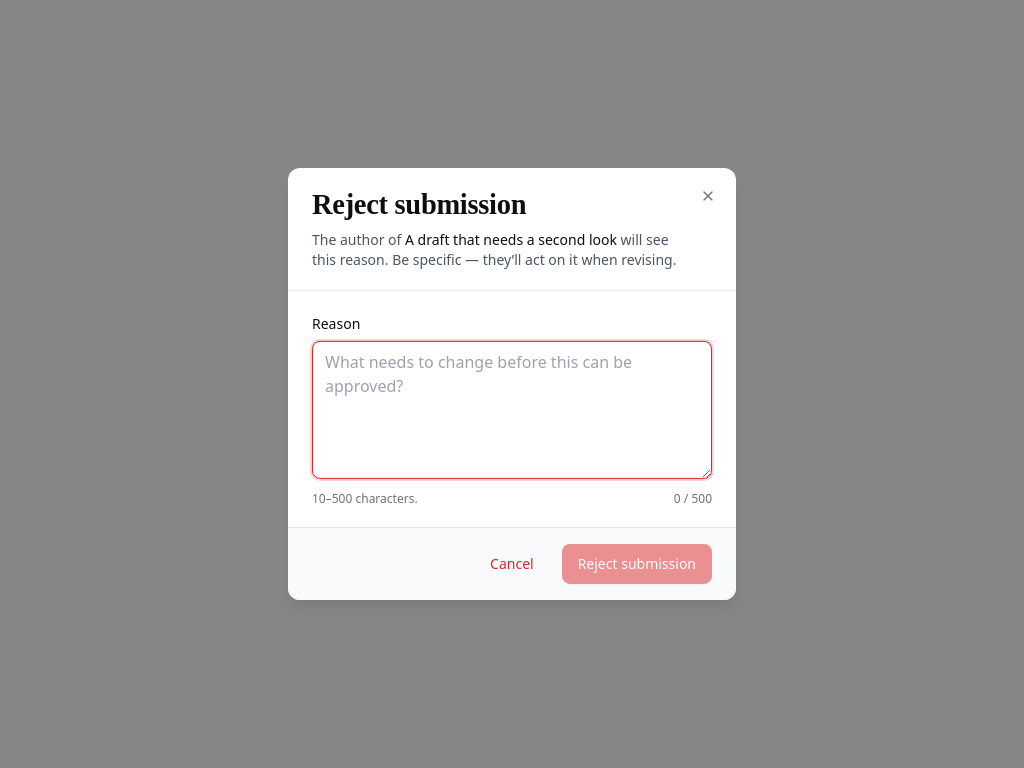
Scenario: <RejectModal> › keeps submit disabled until the reason hits the 10-char floor
The image size is (1024, 768).
Type "too short" into the text box labelled "Reason" at (512, 410), box [312,341,712,479]
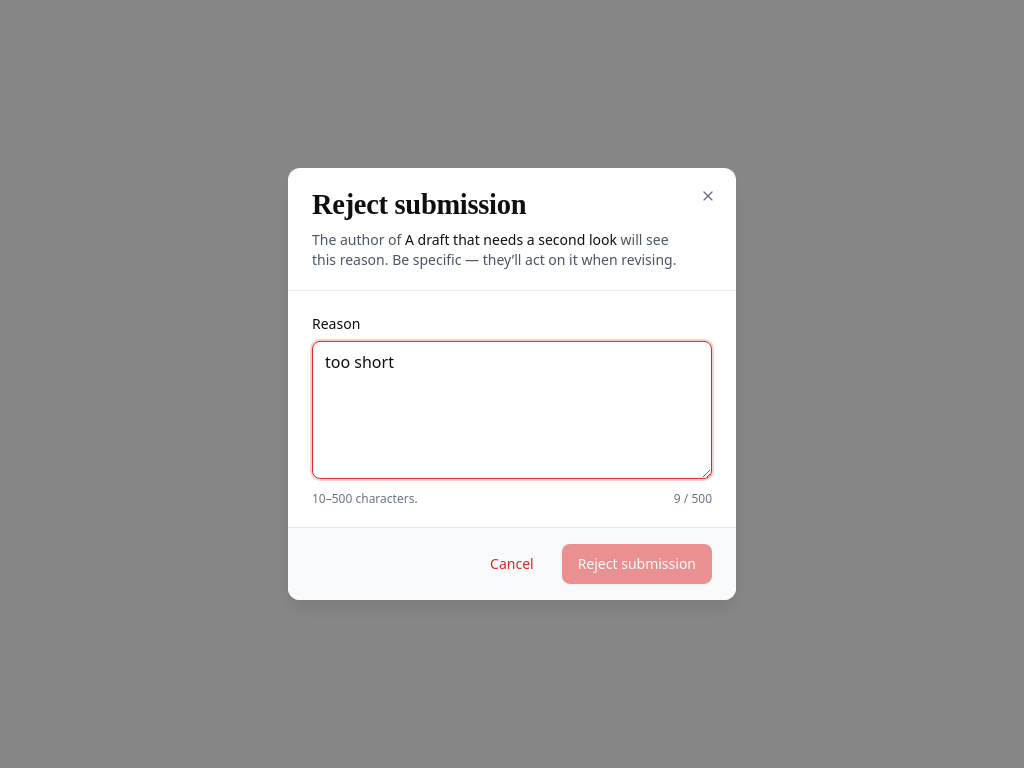
Expected: the button "Reject submission" is disabled, [562,544,712,584]
Type " more words now over ten" into the text box labelled "Reason" at (512, 410), box [312,341,712,479]
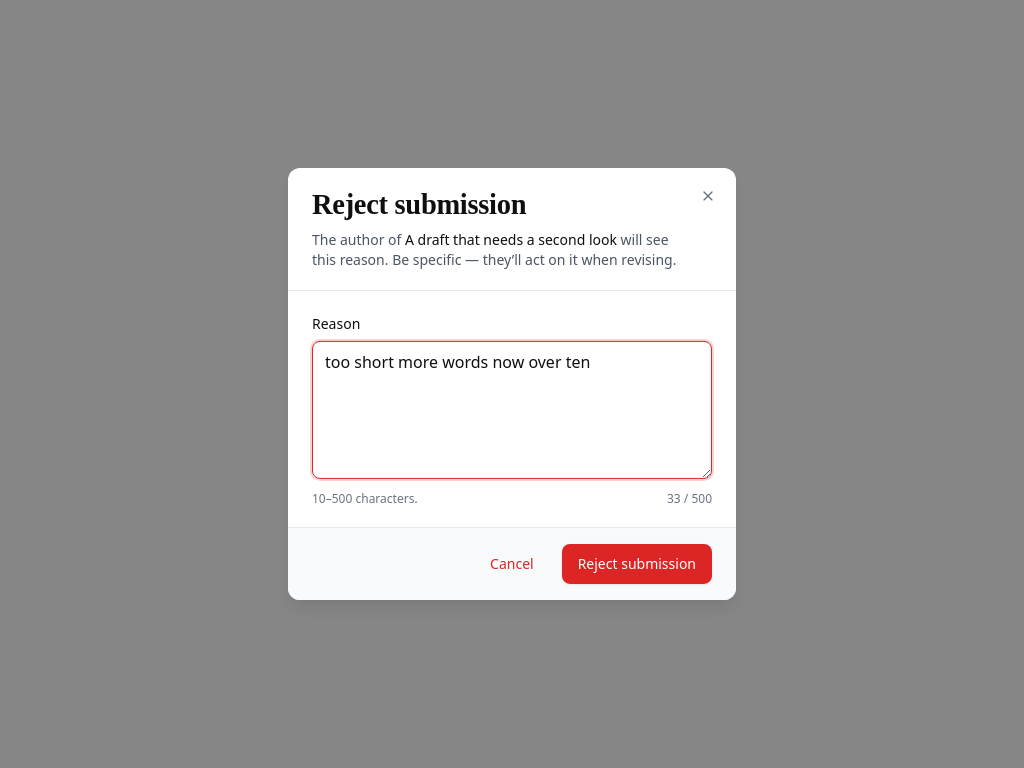
Expected: the button "Reject submission" is enabled, [562,544,712,584]
